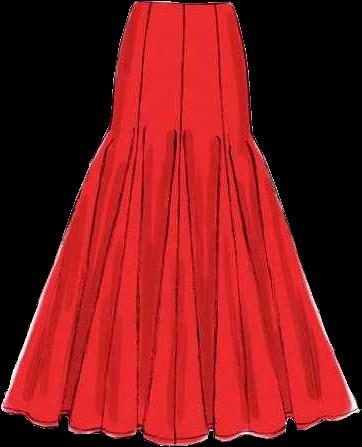Hemline: (0, 403, 361, 446)
Waistline: (134, 0, 232, 4)
